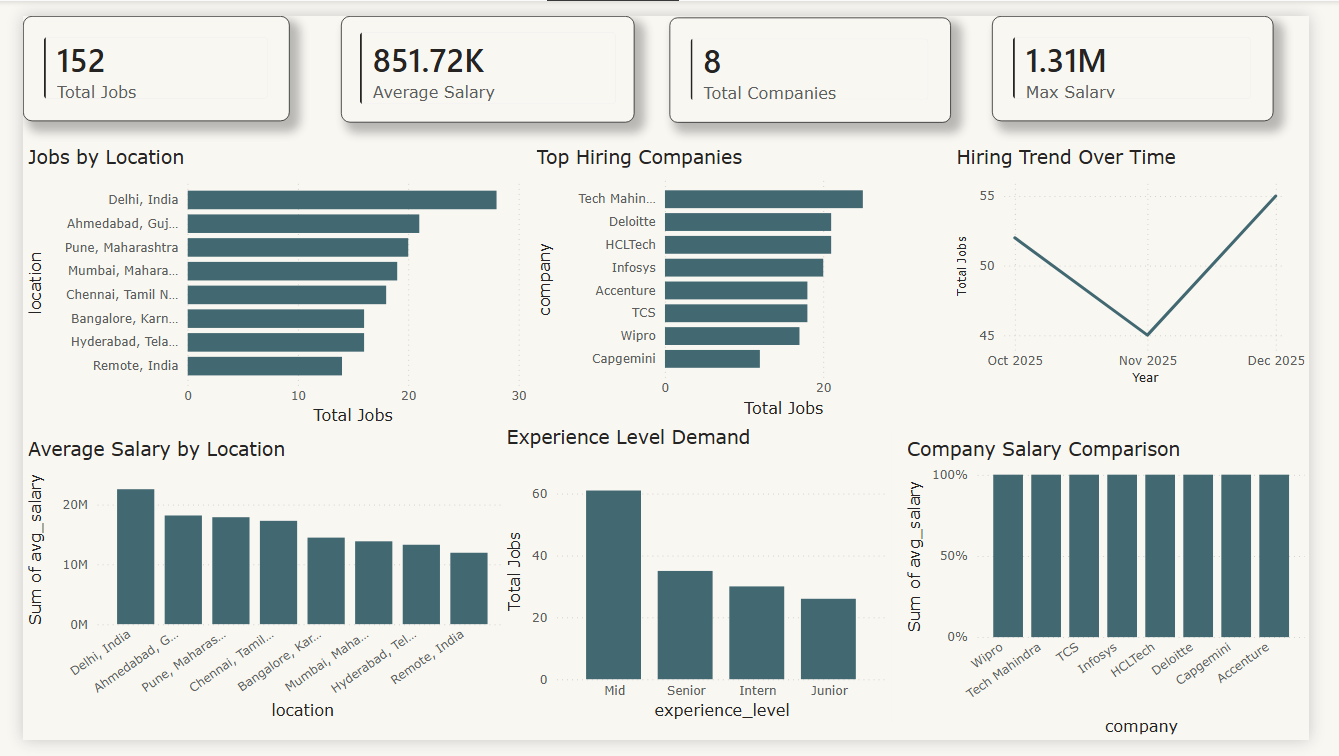

Layout of this report page (visuals, bound fields, positions):
{"tool":"powerbi","page":{"name":"Job Market Analytics Dashboard","canvas":[1280,720],"ordinal":0},"visuals":[{"type":"cardVisual","fields":{"Data":["clean_job_market_data.Total Jobs"]},"box":[0,0,265.6,105],"z":0},{"type":"cardVisual","fields":{"Data":["clean_job_market_data.Average Salary"]},"box":[315.7,0,292.3,106.3],"z":1000},{"type":"cardVisual","fields":{"Data":["clean_job_market_data.Total Companies"]},"box":[644,1.6,279.8,104.7],"z":2000},{"type":"cardVisual","fields":{"Data":["clean_job_market_data.Max Salary"]},"box":[963.9,0,279.9,105],"z":3000},{"type":"barChart","title":"Jobs by Location","fields":{"Category":["clean_job_market_data.location"],"Y":["clean_job_market_data.Total Jobs"]},"box":[0,128.8,505.8,283.1],"z":4000},{"type":"barChart","title":"Top Hiring Companies","fields":{"Category":["clean_job_market_data.company"],"Y":["clean_job_market_data.Total Jobs"]},"box":[505.8,128.8,381.7,275.2],"z":5000},{"type":"columnChart","title":"Average Salary by Location","fields":{"Category":["clean_job_market_data.location"],"Y":["Sum(clean_job_market_data.avg_salary)"]},"box":[0,419.9,486.7,284.7],"z":6000},{"type":"clusteredColumnChart","title":"Experience Level Demand","fields":{"Category":["clean_job_market_data.experience_level"],"Y":["clean_job_market_data.Total Jobs"]},"box":[475.6,407.2,388.1,297.4],"z":7000},{"type":"hundredPercentStackedColumnChart","title":"Company Salary Comparison","fields":{"Category":["clean_job_market_data.company"],"Y":["Sum(clean_job_market_data.avg_salary)"]},"box":[874.8,419.9,405.6,300.6],"z":8000},{"type":"lineChart","title":"Hiring Trend Over Time","fields":{"Category":["clean_job_market_data.date_posted.Variation.Date Hierarchy.Year","clean_job_market_data.date_posted.Variation.Date Hierarchy.Month"],"Y":["clean_job_market_data.Total Jobs"]},"box":[924.1,128.8,356.3,243.4],"z":9000}]}

Visuals, with their boxes in screenshot pixels (x1, y1, x2, y2), scaled from the page's 1280x720 canvas onto the 1339x756 screenshot:
cardVisual - clean_job_market_data.Total Jobs: [x1=0, y1=0, x2=278, y2=110]
cardVisual - clean_job_market_data.Average Salary: [x1=330, y1=0, x2=636, y2=112]
cardVisual - clean_job_market_data.Total Companies: [x1=674, y1=2, x2=966, y2=112]
cardVisual - clean_job_market_data.Max Salary: [x1=1008, y1=0, x2=1301, y2=110]
"Jobs by Location" barChart: [x1=0, y1=135, x2=529, y2=432]
"Top Hiring Companies" barChart: [x1=529, y1=135, x2=928, y2=424]
"Average Salary by Location" columnChart: [x1=0, y1=441, x2=509, y2=740]
"Experience Level Demand" clusteredColumnChart: [x1=498, y1=428, x2=904, y2=740]
"Company Salary Comparison" hundredPercentStackedColumnChart: [x1=915, y1=441, x2=1338, y2=755]
"Hiring Trend Over Time" lineChart: [x1=967, y1=135, x2=1338, y2=391]
